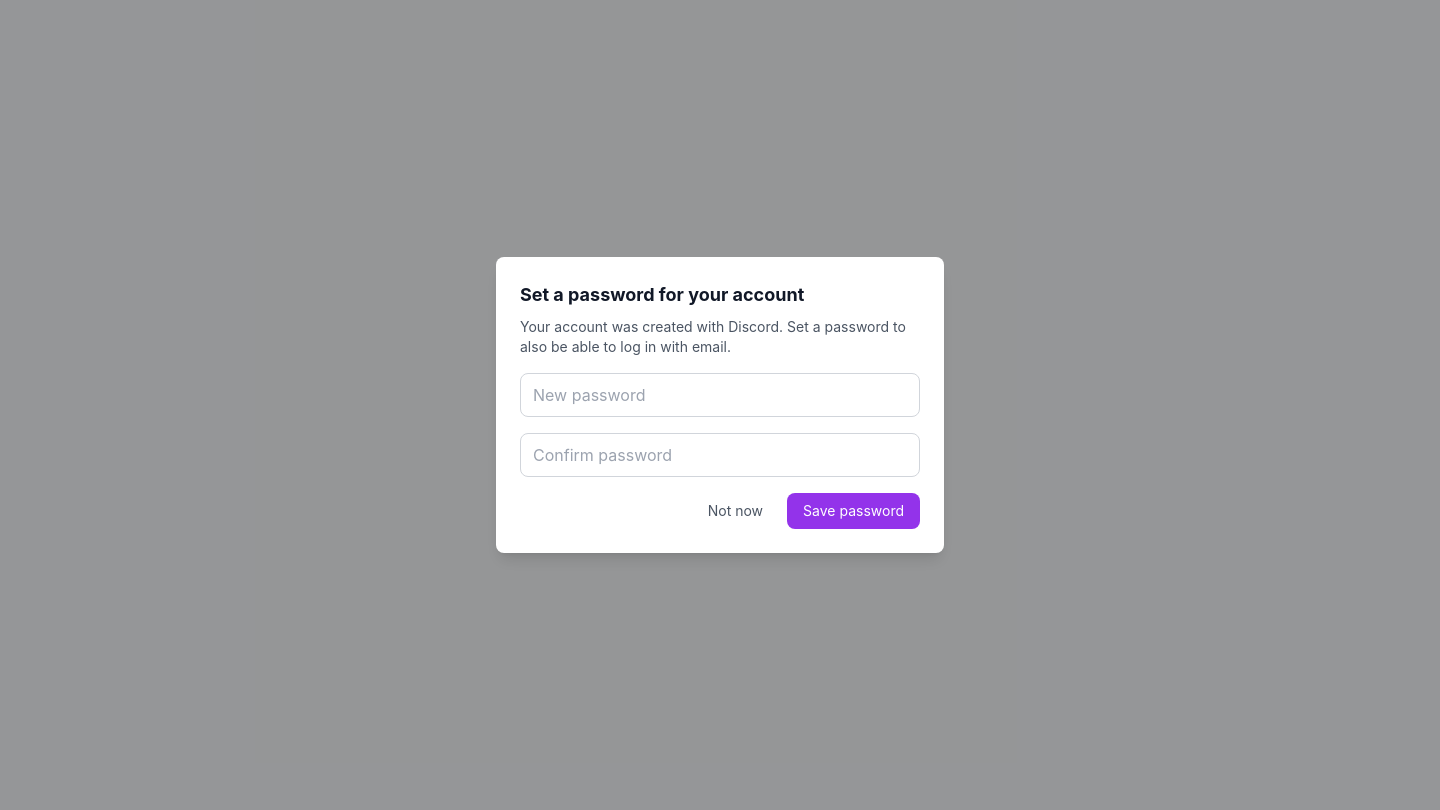
Test: SetPasswordModal › valida complexidade da senha (sem uppercase)
The image size is (1440, 810).
# 13 chars, tem dígito e lowercase, mas sem uppercase
Type "alllowercase1" into the password field with placeholder "New password". click: (720, 395)
box: left=520, top=373, right=920, bottom=417
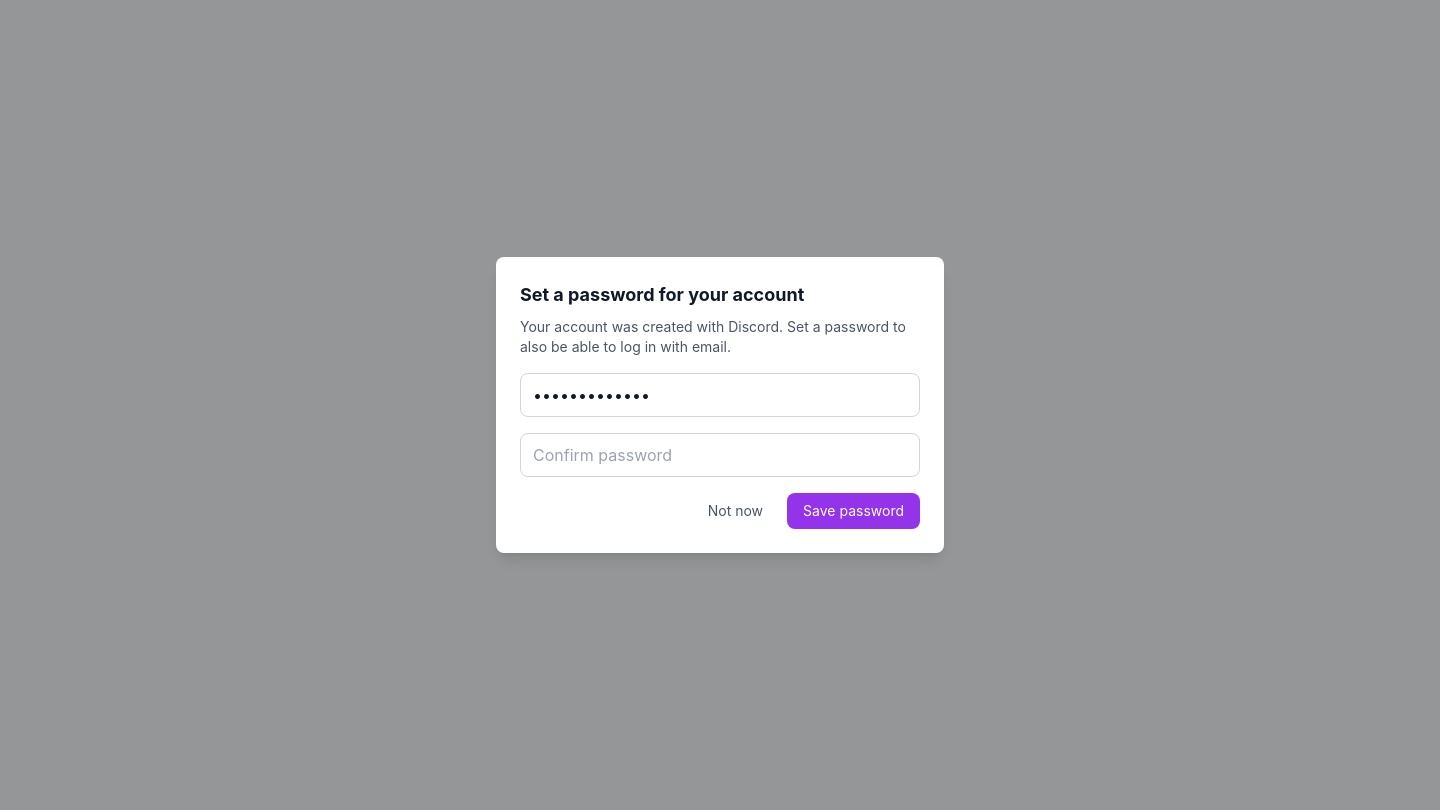
Type "alllowercase1" into the password field with placeholder "Confirm password". click: (720, 455)
box: left=520, top=433, right=920, bottom=477
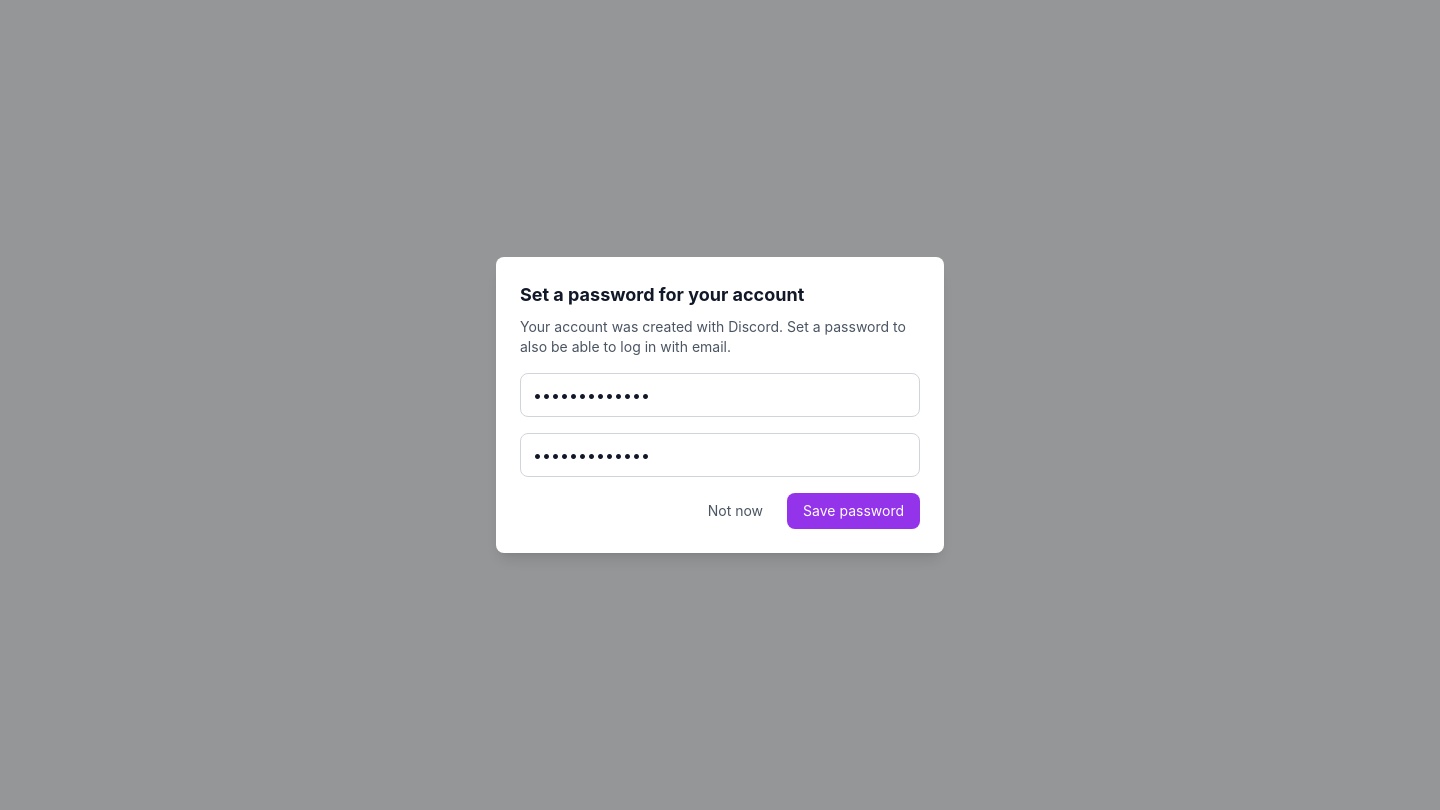
Click the submit button. click: (854, 511)
box: left=787, top=493, right=920, bottom=529
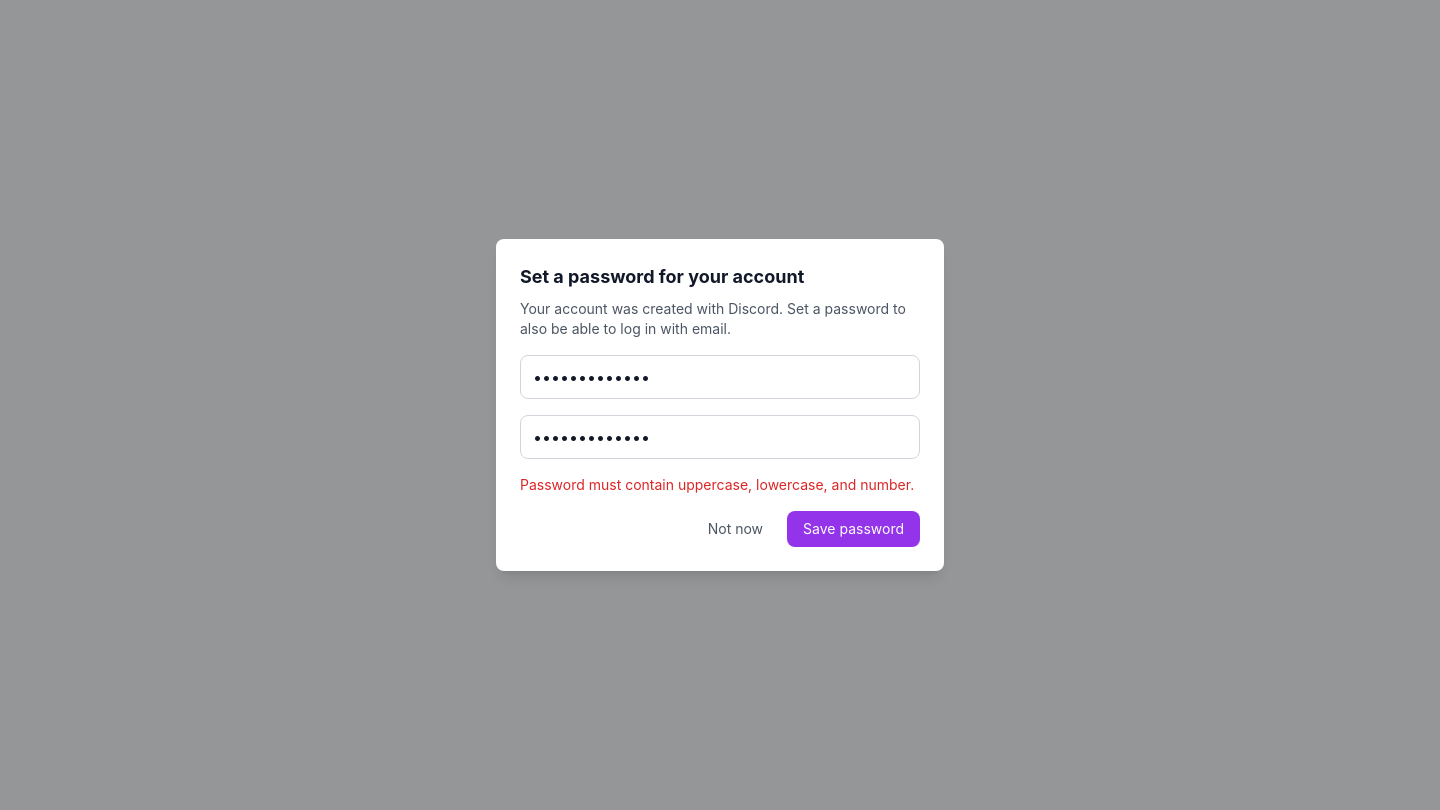
Now the text "Password must contain uppercase, lowercase, and number." is shown, box left=520, top=475, right=920, bottom=495
